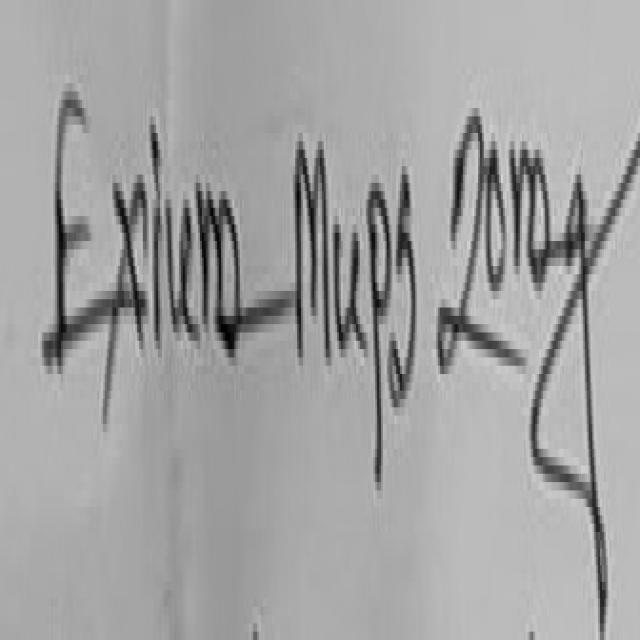0: (488, 141, 507, 287)
2: (440, 108, 526, 370)
E: (42, 91, 130, 362)
M: (296, 123, 331, 353)
g: (533, 141, 639, 636)
i: (154, 199, 160, 345), (151, 116, 160, 195)
m: (505, 130, 552, 278), (195, 173, 240, 320)
p: (368, 183, 392, 486)
s: (390, 158, 417, 403)
u: (334, 229, 368, 360)
x: (107, 175, 149, 420)
